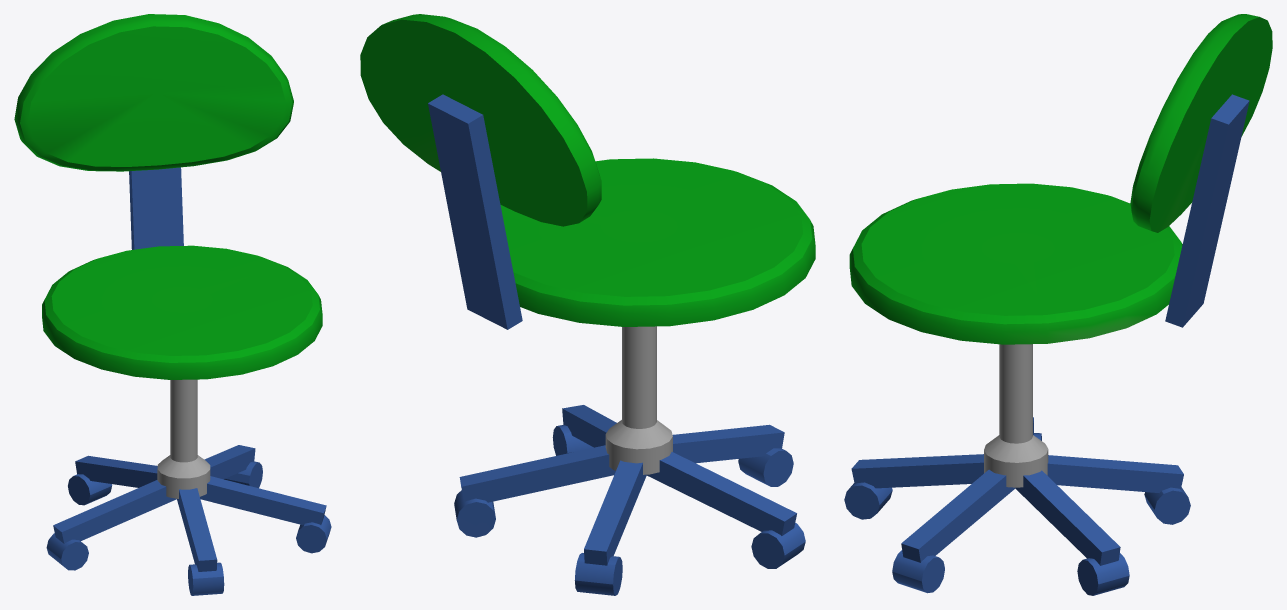
Rendered from Chair.fbx.
The picture shows the model from 3 angles, left to right: view 1: azimuth 30°, elevation 25°; view 2: azimuth 150°, elevation 25°; view 3: azimuth 270°, elevation 25°; orthographic projection. The views are drawn at different scales.
Parts seen in each view (by area): view 1: ChairLow; view 2: ChairLow; view 3: ChairLow.
Boxes of the visible parts, <box> form: ChairLow: <box>14,14,331,595</box>; ChairLow: <box>360,14,815,595</box>; ChairLow: <box>844,14,1272,595</box>.
Bounding box in the file's own units: 55.61 × 80.84 × 58.75.
